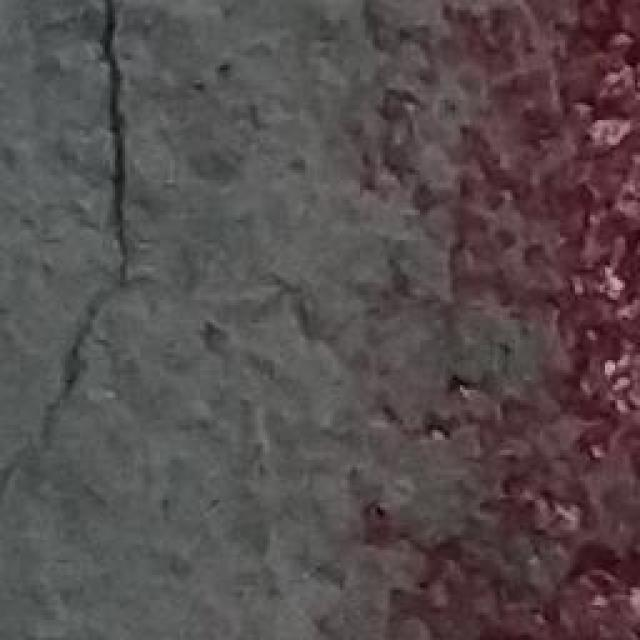Longitudinal: (12, 0, 162, 509)
Rippled: (314, 0, 640, 640)
